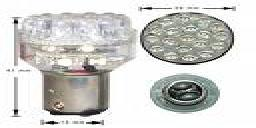LED: (22, 10, 134, 120), (139, 12, 235, 69)
